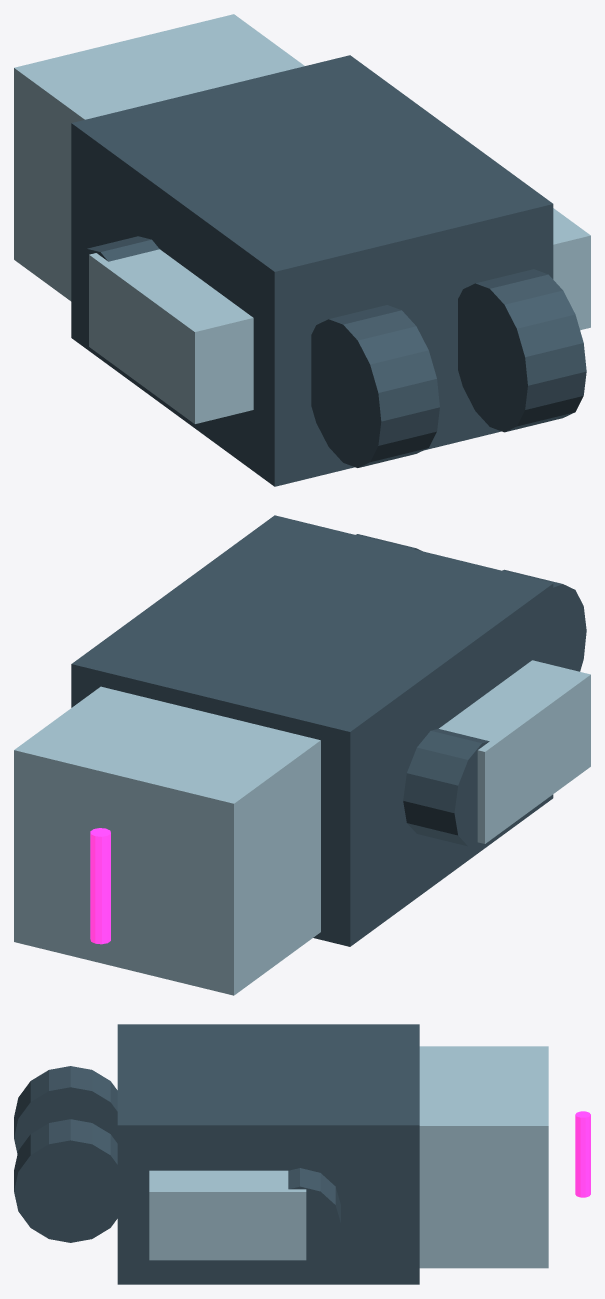
The model's file is maintenance-robot.glb.
The picture shows the model from 3 angles, top to bottom: view 1: azimuth 30°, elevation 25°; view 2: azimuth 150°, elevation 25°; view 3: azimuth 270°, elevation 25°; orthographic projection. The views are drawn at different scales.
Parts seen in each view (by area): view 1: Maintenance Robot Body, Robot Head, Utility Arm, Wheel, Wheel.001, Utility Arm.001, Shoulder Joint; view 2: Maintenance Robot Body, Robot Head, Utility Arm, Shoulder Joint, Wheel, Antenna; view 3: Maintenance Robot Body, Robot Head, Utility Arm.001, Wheel.001, Wheel, Shoulder Joint.001, Antenna.
Boxes of the visible parts, box(x1,y1,x2,y2) form: Maintenance Robot Body: box(71, 55, 553, 486); Robot Head: box(14, 14, 304, 301); Utility Arm: box(89, 249, 253, 423); Wheel: box(311, 305, 439, 467); Wheel.001: box(458, 269, 586, 432); Utility Arm.001: box(553, 208, 590, 330); Shoulder Joint: box(73, 236, 159, 337); Maintenance Robot Body: box(71, 515, 553, 946); Robot Head: box(14, 686, 320, 995); Utility Arm: box(439, 660, 590, 843); Shoulder Joint: box(403, 729, 489, 846); Wheel: box(502, 569, 586, 671); Antenna: box(90, 828, 110, 944); Maintenance Robot Body: box(117, 1024, 419, 1284); Robot Head: box(419, 1046, 548, 1268); Utility Arm.001: box(149, 1170, 306, 1260); Wheel.001: box(14, 1119, 117, 1242); Wheel: box(14, 1066, 117, 1153); Shoulder Joint.001: box(288, 1168, 340, 1260); Antenna: box(575, 1111, 590, 1197).
Bounding box in the file's own units: 1.08 × 0.605 × 1.84.
